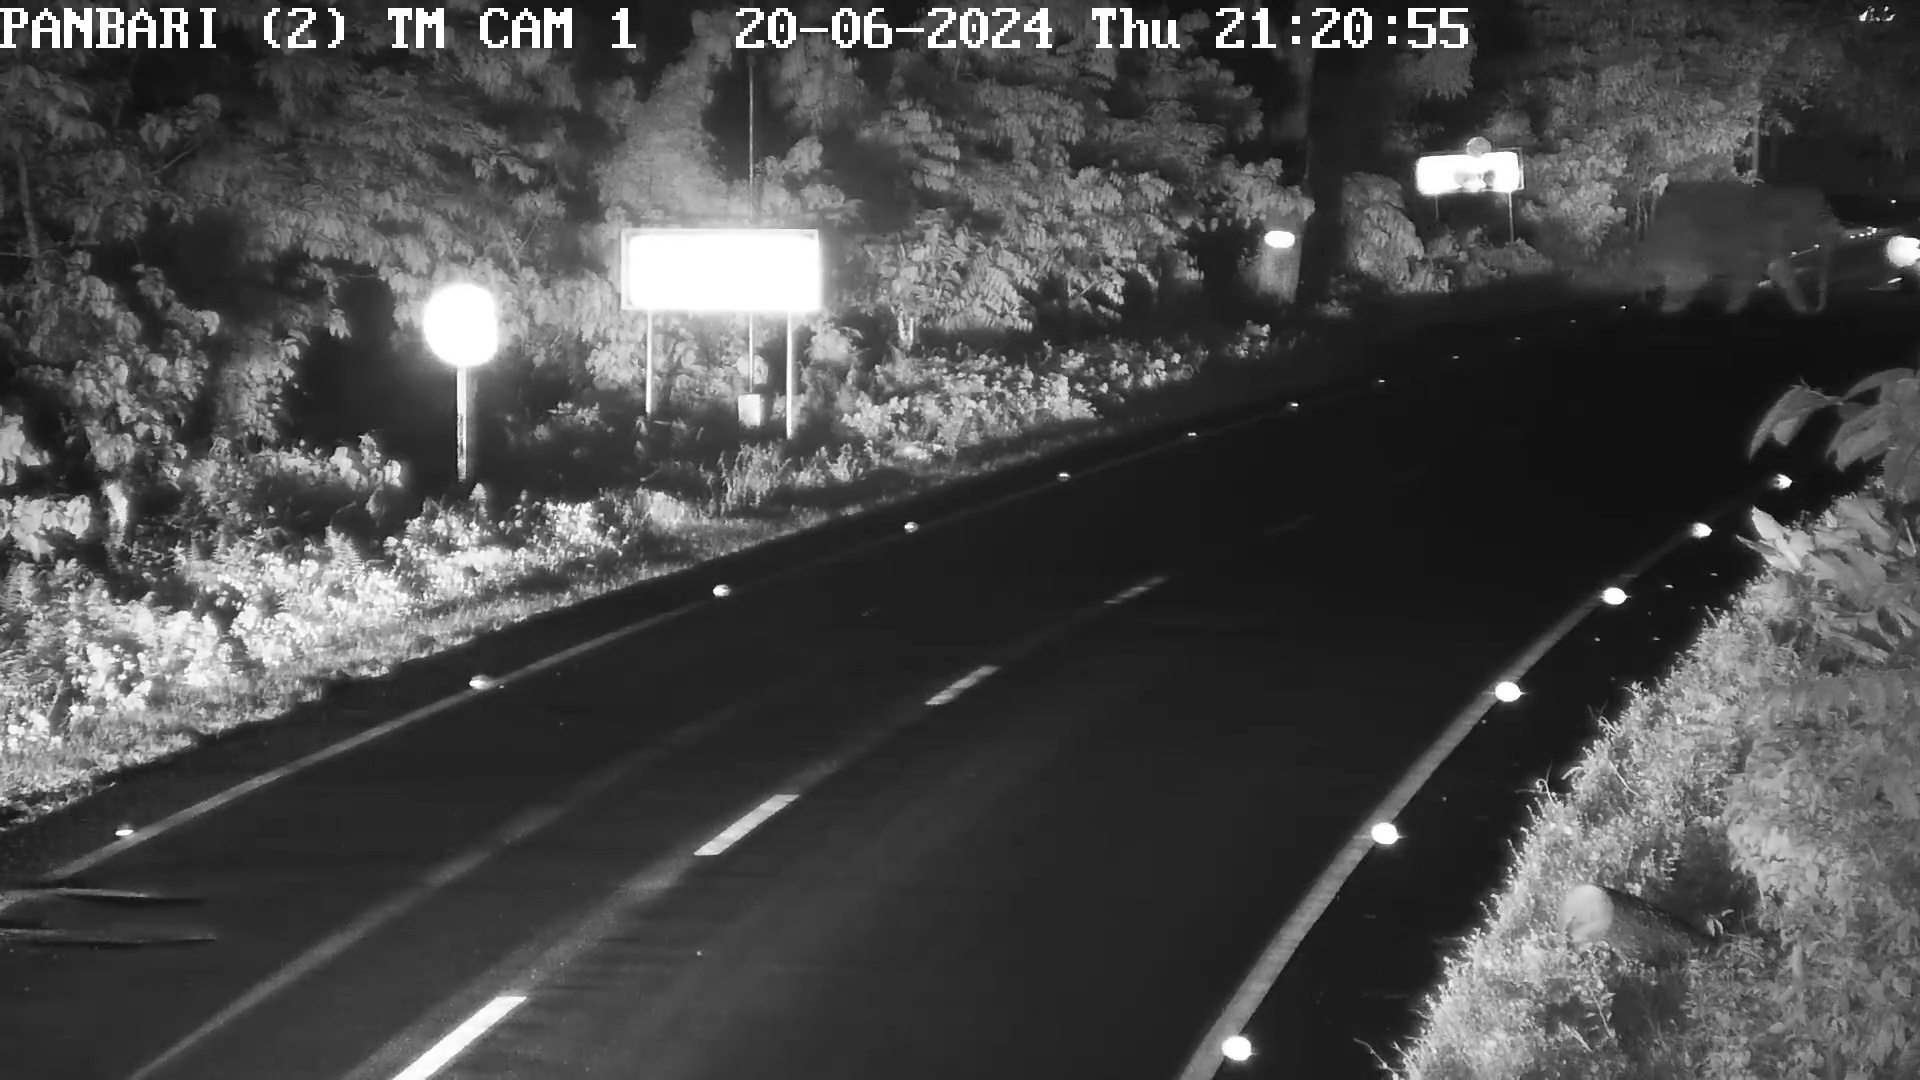elephants: (1629, 172, 1842, 327)
